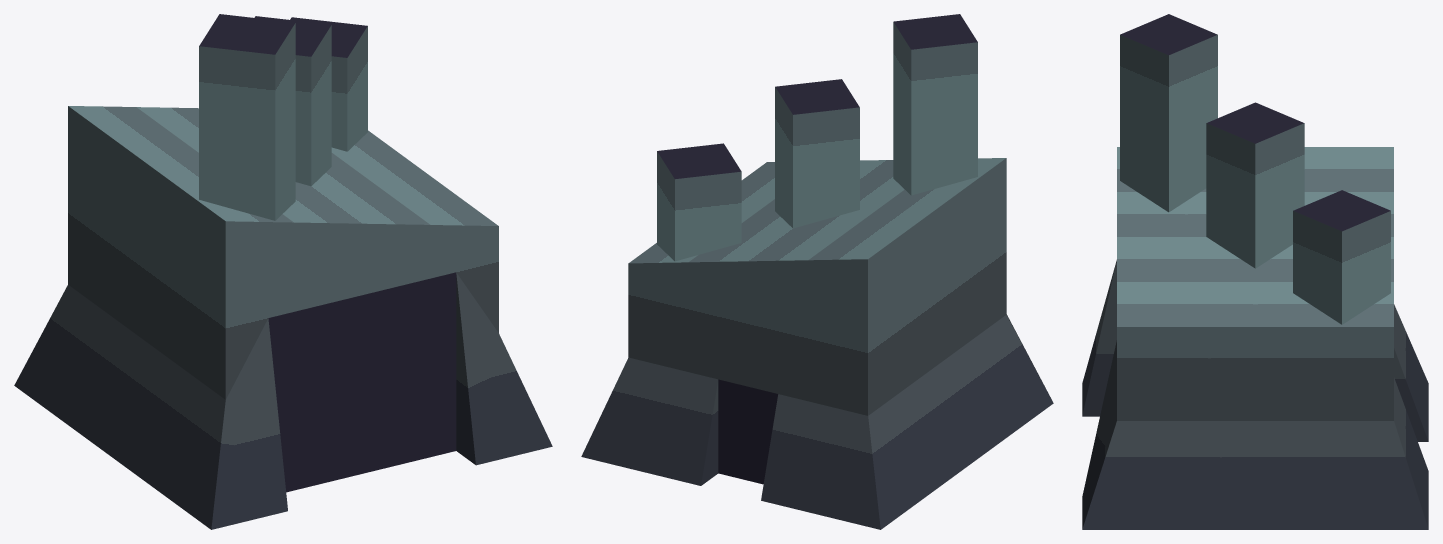
Rendered from Factory.gltf.
3 renders of one model, left to right at view 1: azimuth 30°, elevation 25°; view 2: azimuth 150°, elevation 25°; view 3: azimuth 270°, elevation 25°, orthographic. The views are drawn at different scales.
Visible parts, largest first — view 1: cube (×4); view 2: cube (×4); view 3: cube (×4).
Part boxes in pixels (x1,y1,x2,y2): cube (×4): [14, 14, 552, 529]; cube (×4): [581, 14, 1053, 529]; cube (×4): [1082, 14, 1428, 529].
Bounding box in the file's own units: 0.625 × 0.7672 × 0.625.
1 material, 1 textured.
